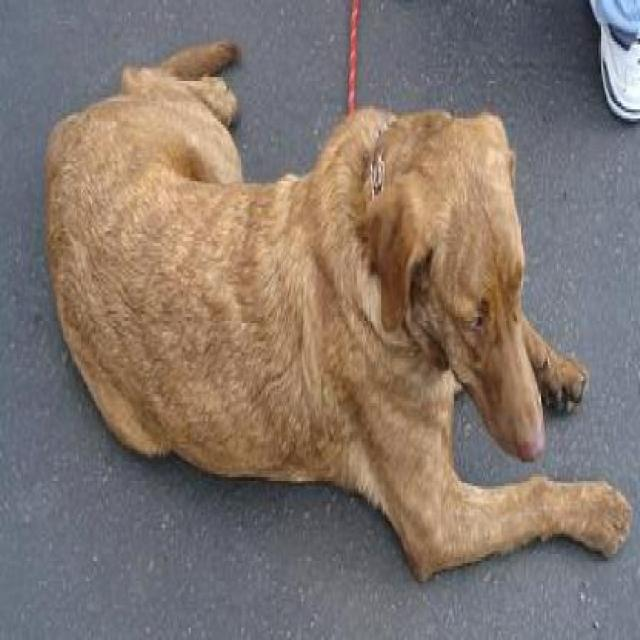Dog: (47, 24, 638, 594)
